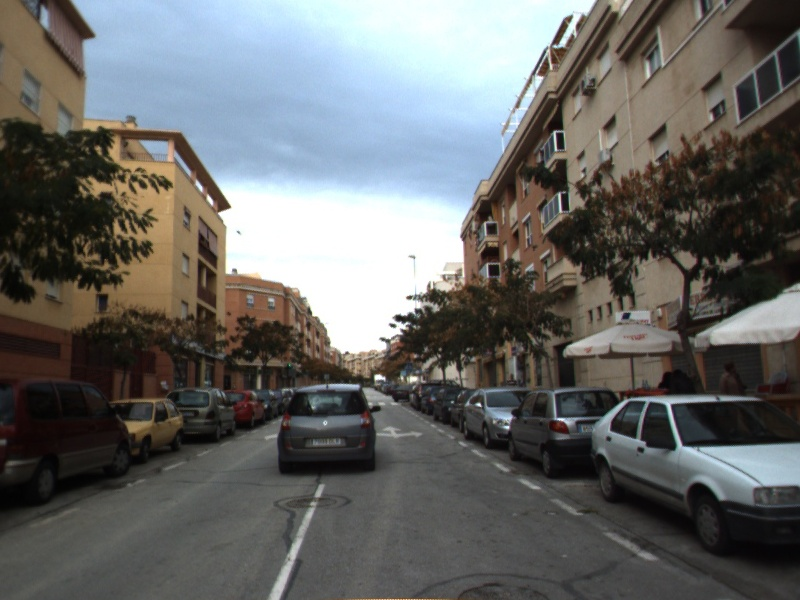STRAIGHT_LEFT_RIGHT: (376, 423, 426, 441)
